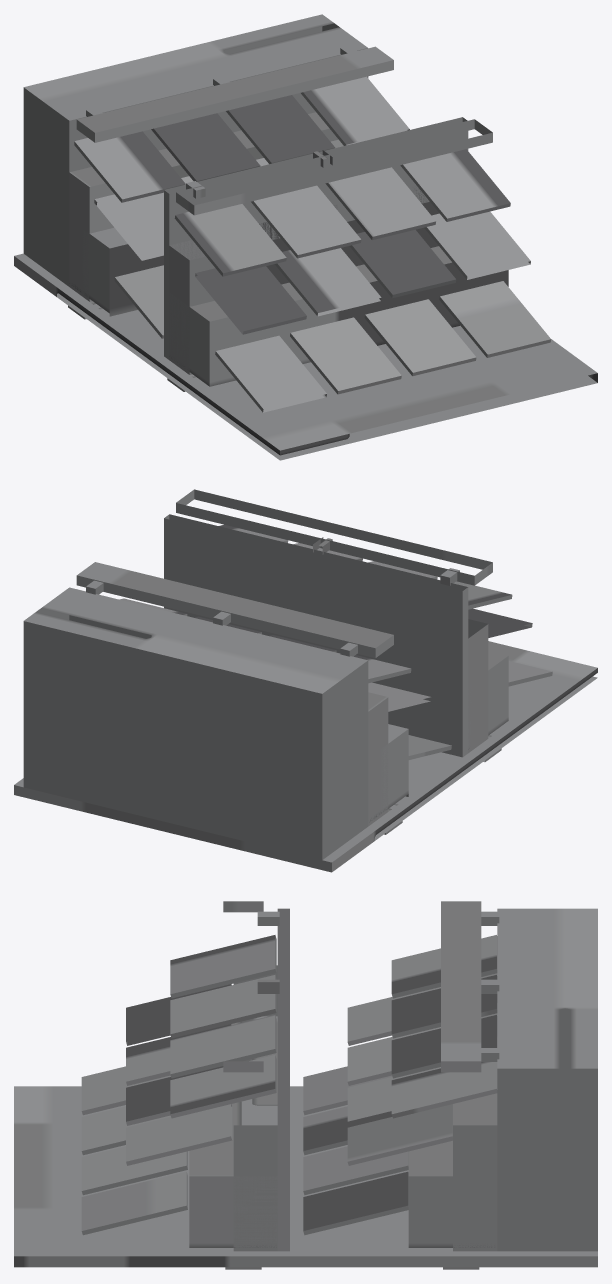
The picture shows the model from 3 angles, top to bottom: view 1: azimuth 30°, elevation 25°; view 2: azimuth 150°, elevation 25°; view 3: azimuth 270°, elevation 25°; orthographic projection. The views are drawn at different scales.
Bounding box in the file's own units: 1 × 0.556 × 1.45.
